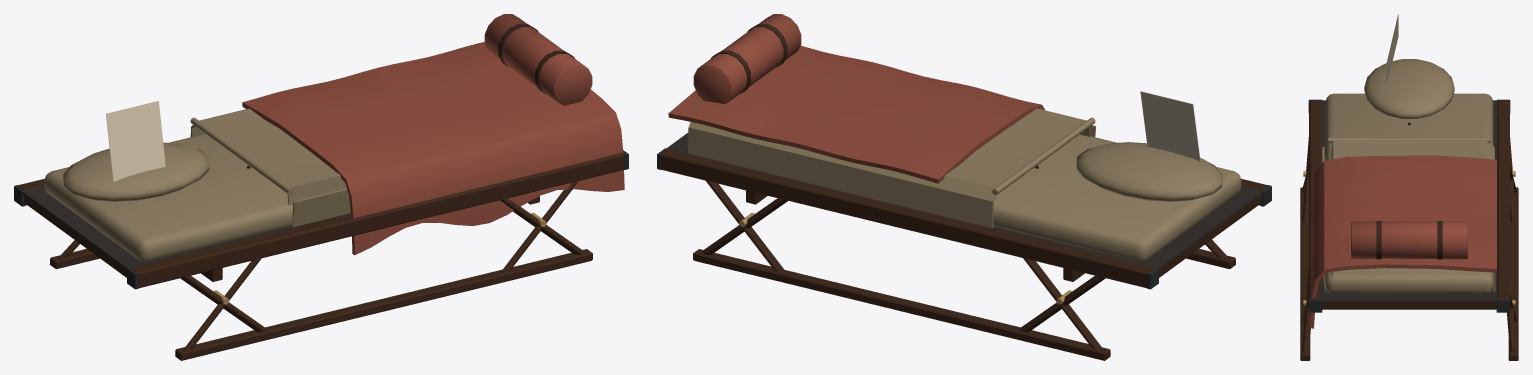
File: cot.glb
The picture shows the model from 3 angles, left to right: view 1: azimuth 30°, elevation 25°; view 2: azimuth 150°, elevation 25°; view 3: azimuth 270°, elevation 25°; orthographic projection. The views are drawn at different scales.
Visible parts, largest first — view 1: cot_body, IA_cot_drawing; view 2: cot_body, IA_cot_drawing; view 3: cot_body, IA_cot_drawing.
Part boxes in pixels (x1,y1,x2,y2): cot_body: (14, 14, 628, 360); IA_cot_drawing: (106, 101, 165, 181); cot_body: (657, 14, 1271, 360); IA_cot_drawing: (1140, 91, 1200, 161); cot_body: (1300, 59, 1518, 360); IA_cot_drawing: (1386, 14, 1398, 85).
Bounding box in the file's own units: 1.89 × 0.7539 × 0.86.
